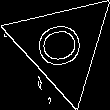O_E: (33, 18, 92, 72)
